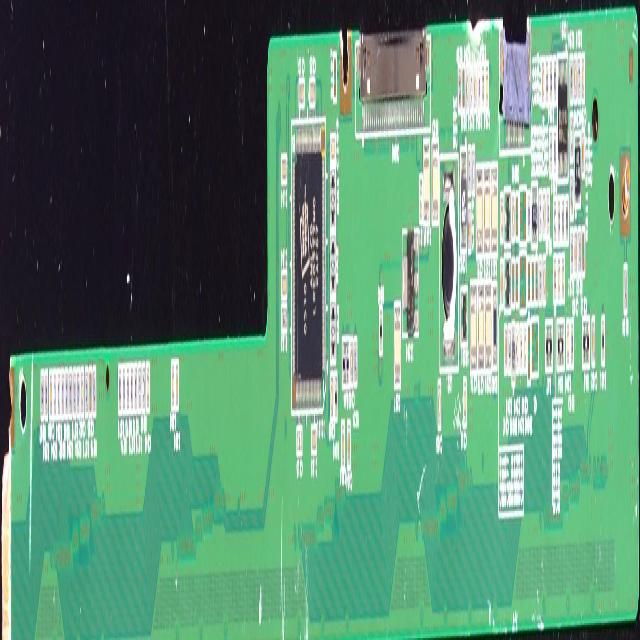Capacitor Jumper: (485, 281, 491, 376), (470, 283, 476, 375), (423, 144, 429, 225), (394, 304, 400, 384), (478, 281, 483, 376), (432, 140, 438, 218), (476, 173, 482, 250), (491, 160, 496, 250), (484, 167, 489, 247), (298, 76, 304, 104), (49, 368, 52, 421), (80, 367, 83, 417), (311, 422, 316, 452), (468, 203, 471, 251), (341, 422, 344, 469), (296, 428, 301, 456), (171, 361, 174, 407), (330, 372, 333, 417), (463, 380, 466, 425), (523, 323, 526, 363), (281, 159, 286, 183), (485, 66, 488, 105), (566, 323, 569, 358), (282, 270, 286, 296), (501, 266, 504, 300), (542, 55, 544, 106), (89, 363, 91, 412), (543, 192, 545, 239), (500, 193, 502, 240), (350, 338, 352, 385), (146, 363, 148, 410), (438, 378, 440, 425), (310, 74, 314, 97), (466, 64, 468, 110), (516, 323, 518, 368), (176, 365, 178, 410), (330, 141, 335, 159), (347, 427, 349, 471), (512, 194, 514, 236), (558, 258, 560, 300), (582, 129, 584, 171), (574, 236, 576, 276), (543, 260, 545, 300), (474, 68, 476, 107), (562, 260, 564, 297), (504, 330, 506, 366), (574, 62, 576, 96), (582, 59, 584, 92), (592, 325, 593, 365)
IC: (292, 124, 324, 407), (402, 232, 418, 334), (558, 59, 566, 171), (460, 144, 466, 246), (574, 137, 580, 202)
Resistor Jumper: (84, 359, 88, 417), (526, 190, 530, 239), (556, 196, 560, 242), (56, 372, 60, 418), (507, 326, 511, 368), (552, 59, 556, 101), (118, 368, 121, 414), (481, 62, 484, 108), (569, 112, 572, 158), (40, 368, 43, 413), (538, 196, 541, 240), (458, 66, 461, 110), (582, 226, 585, 269), (44, 372, 47, 414), (528, 321, 530, 383), (129, 368, 132, 408), (477, 68, 480, 108), (553, 198, 556, 237), (570, 319, 572, 367), (520, 323, 522, 371), (134, 364, 136, 412), (332, 52, 334, 100), (281, 308, 286, 327), (548, 186, 550, 232), (570, 228, 572, 273), (354, 338, 356, 383), (61, 372, 63, 417), (550, 61, 552, 106), (142, 368, 144, 412), (77, 372, 79, 416), (470, 62, 472, 106), (472, 146, 474, 190), (65, 371, 67, 414), (468, 144, 470, 187), (515, 194, 517, 236), (565, 200, 567, 242), (93, 366, 95, 408), (54, 372, 56, 414), (73, 372, 75, 414), (123, 372, 125, 414), (516, 264, 518, 305), (138, 367, 140, 408), (578, 57, 580, 98), (561, 200, 563, 240), (578, 230, 580, 270), (570, 175, 572, 214), (550, 129, 552, 168), (535, 260, 537, 297), (69, 376, 71, 413), (554, 262, 556, 298), (531, 262, 533, 298), (540, 264, 542, 299), (554, 133, 556, 168), (570, 59, 572, 93), (512, 266, 514, 299), (126, 372, 128, 405), (546, 57, 547, 104), (528, 258, 529, 302)
